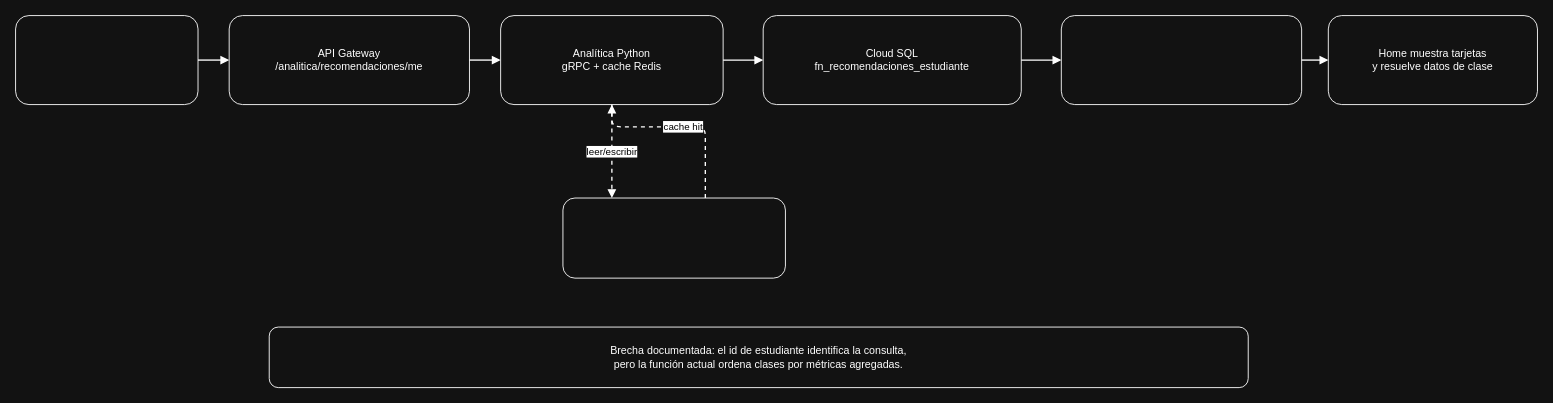
Some shapes in this 1553 by 403 pixel diagram are drawn without their labels. Here are the shapes that lost their labels. From the top down, the centre of each, then its label:
At (x=106, y=60): "Estudiante Home".
At (x=1181, y=60): "Puntaje 0–100 70% rating + hasta 30% vistas".
At (x=673, y=237): "Redis cache TTL configurable".
